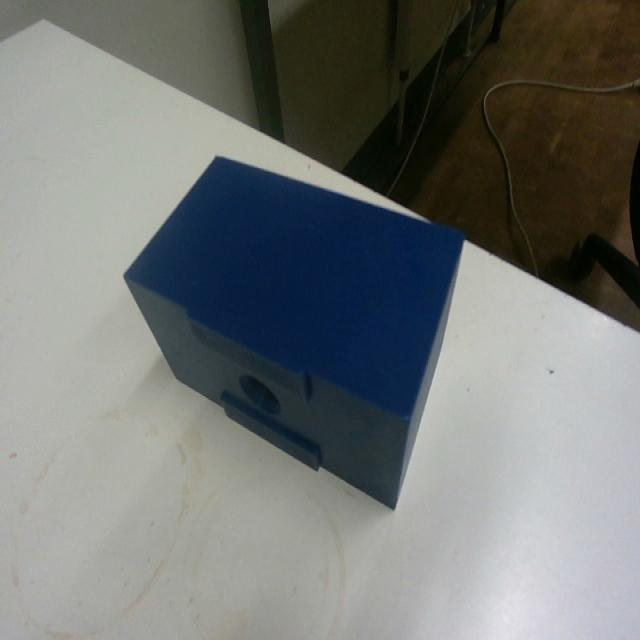Blue Cuboid: (121, 150, 466, 510)
